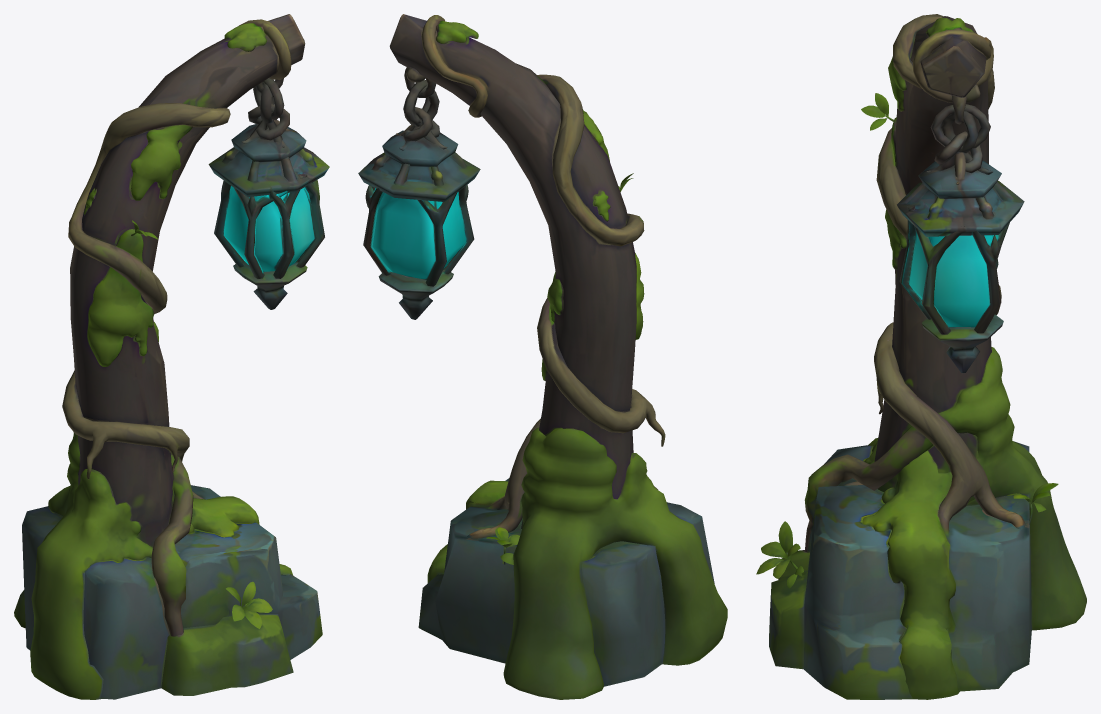
The model's file is lantern.fbx.
3 views of the same model, side by side, from view 1: azimuth 30°, elevation 25°; view 2: azimuth 150°, elevation 25°; view 3: azimuth 270°, elevation 25° (orthographic). The views are drawn at different scales.
Visible parts, largest first — view 1: tripo_34a14f7b_eaec_445b_9a7f_a23750099097; view 2: tripo_34a14f7b_eaec_445b_9a7f_a23750099097; view 3: tripo_34a14f7b_eaec_445b_9a7f_a23750099097.
Part boxes in pixels (bbox=[...]): tripo_34a14f7b_eaec_445b_9a7f_a23750099097: bbox=[14, 14, 329, 699]; tripo_34a14f7b_eaec_445b_9a7f_a23750099097: bbox=[358, 14, 727, 699]; tripo_34a14f7b_eaec_445b_9a7f_a23750099097: bbox=[756, 14, 1086, 699].
Bounding box in the file's own units: 0.5435 × 0.9995 × 0.4517.
1 material, 1 textured.
